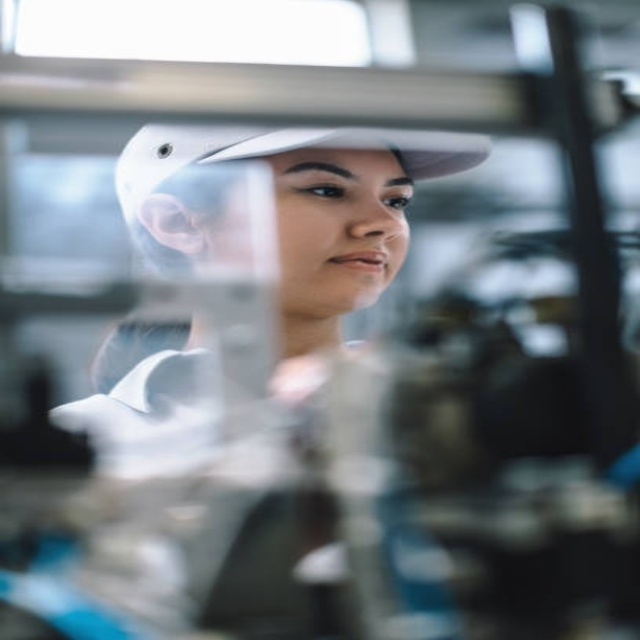Sin_gafas: (267, 156, 420, 215)
Sin_mascara: (304, 238, 403, 300)
